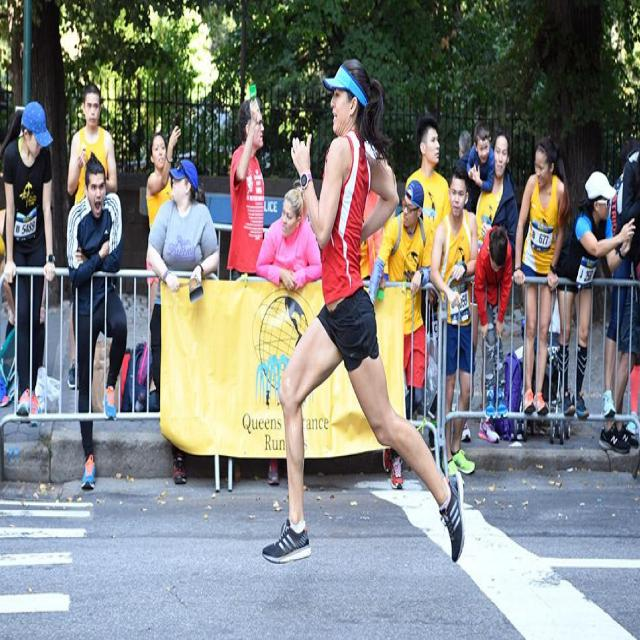body: (261, 52, 466, 565), (142, 153, 222, 488), (64, 151, 129, 494), (254, 181, 324, 488), (554, 166, 638, 420), (455, 127, 520, 444), (368, 175, 431, 493), (1, 97, 56, 430), (512, 130, 569, 419), (66, 81, 118, 391), (428, 161, 479, 477), (600, 142, 640, 421), (473, 223, 514, 419), (403, 113, 453, 272), (225, 94, 266, 281), (356, 138, 399, 290), (0, 163, 23, 440), (146, 122, 183, 230), (465, 120, 495, 215), (449, 128, 481, 215), (620, 353, 640, 438), (617, 135, 640, 167)
